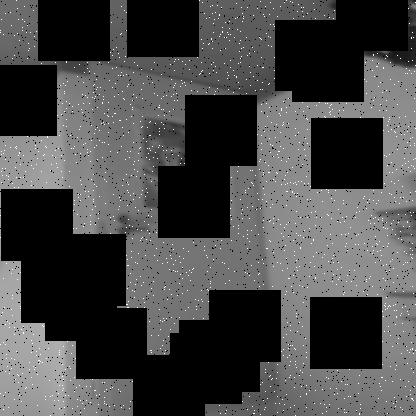Porte: (84, 56, 282, 415)
